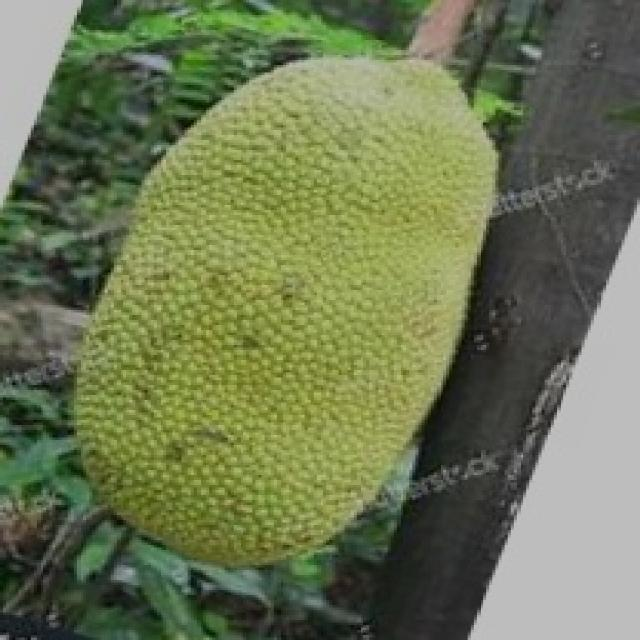Fruit: (126, 12, 539, 362)
